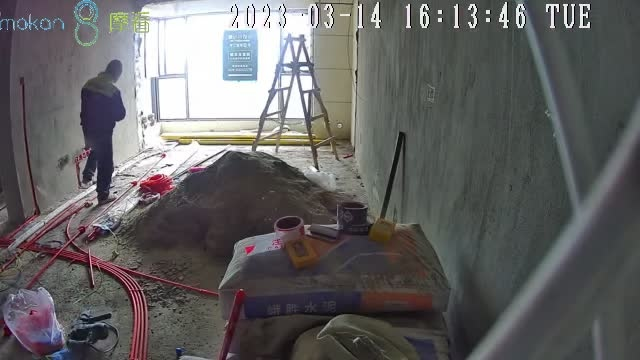people: (81, 59, 126, 205)
window: (133, 14, 314, 121)
